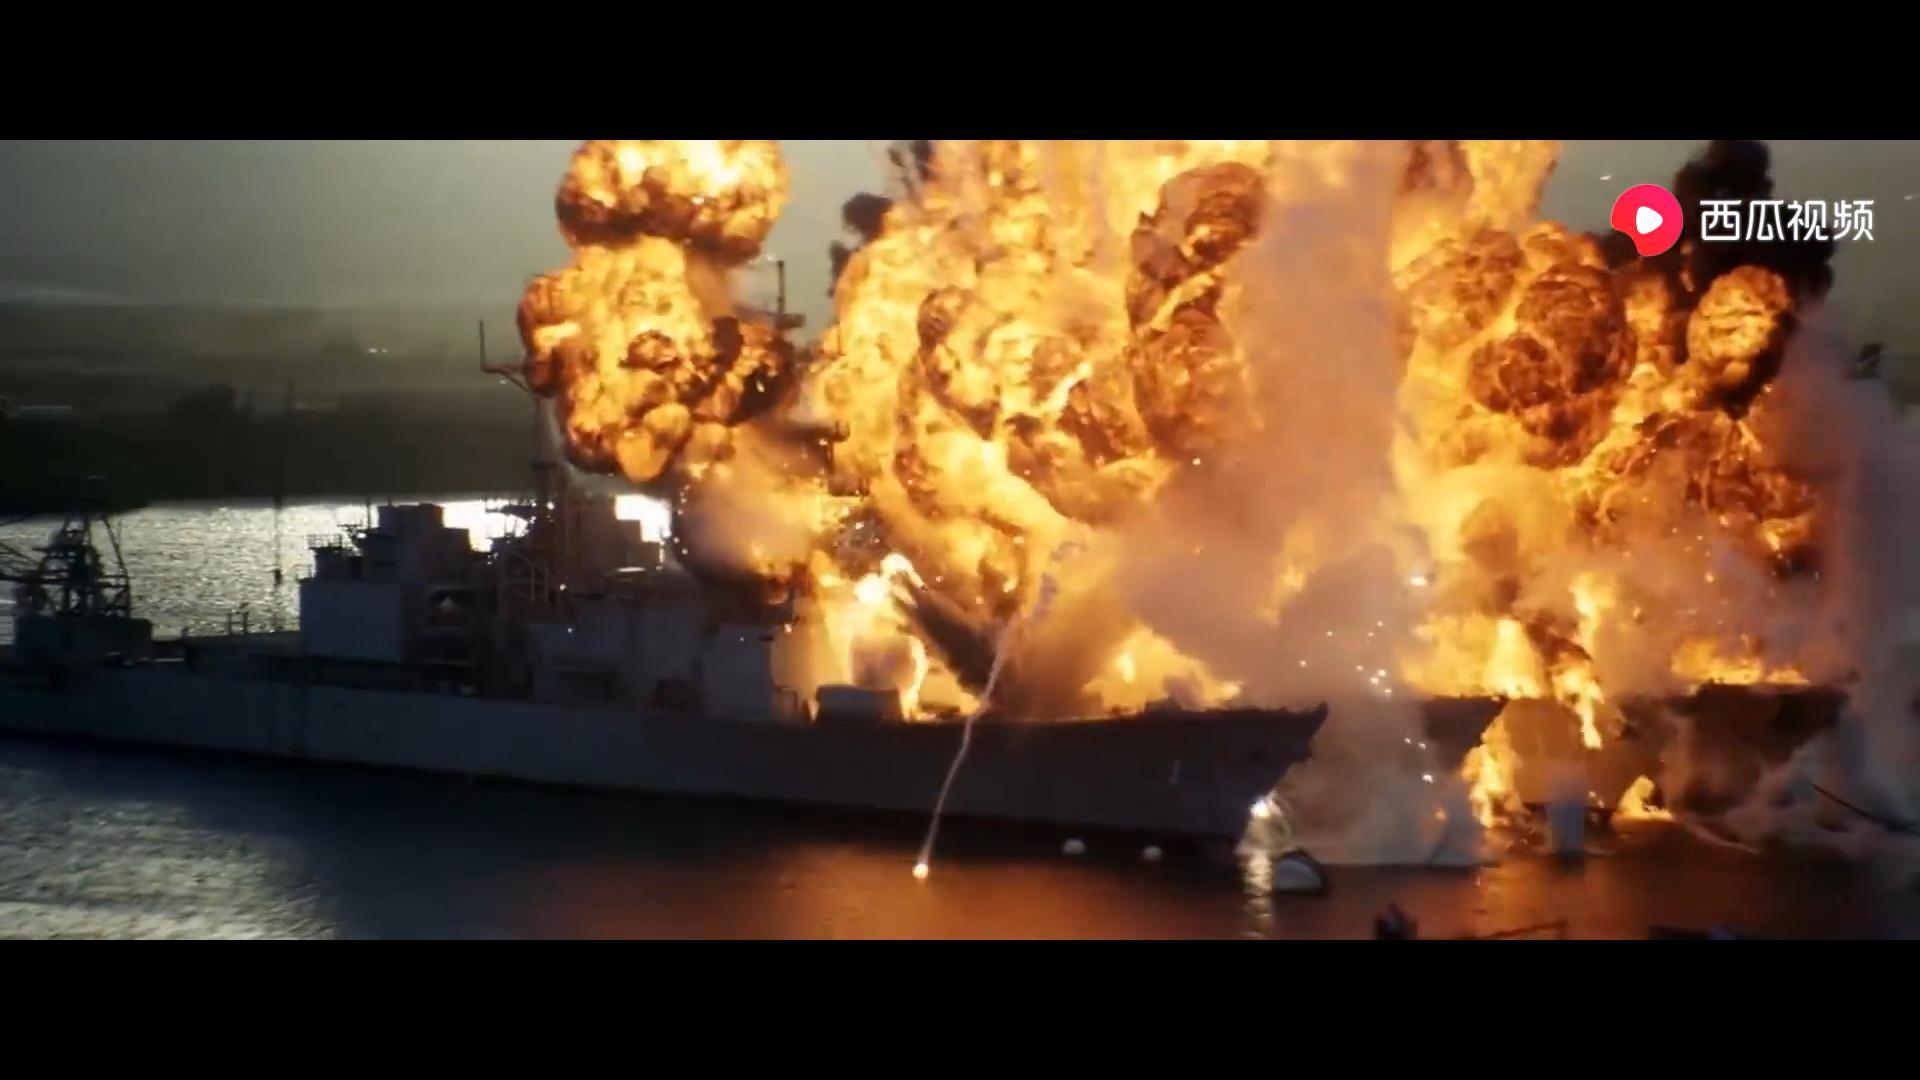fire: (526, 144, 1846, 852)
